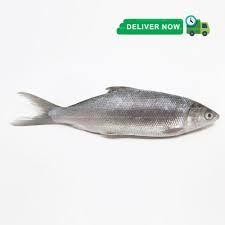Bangus: (9, 85, 221, 141)
